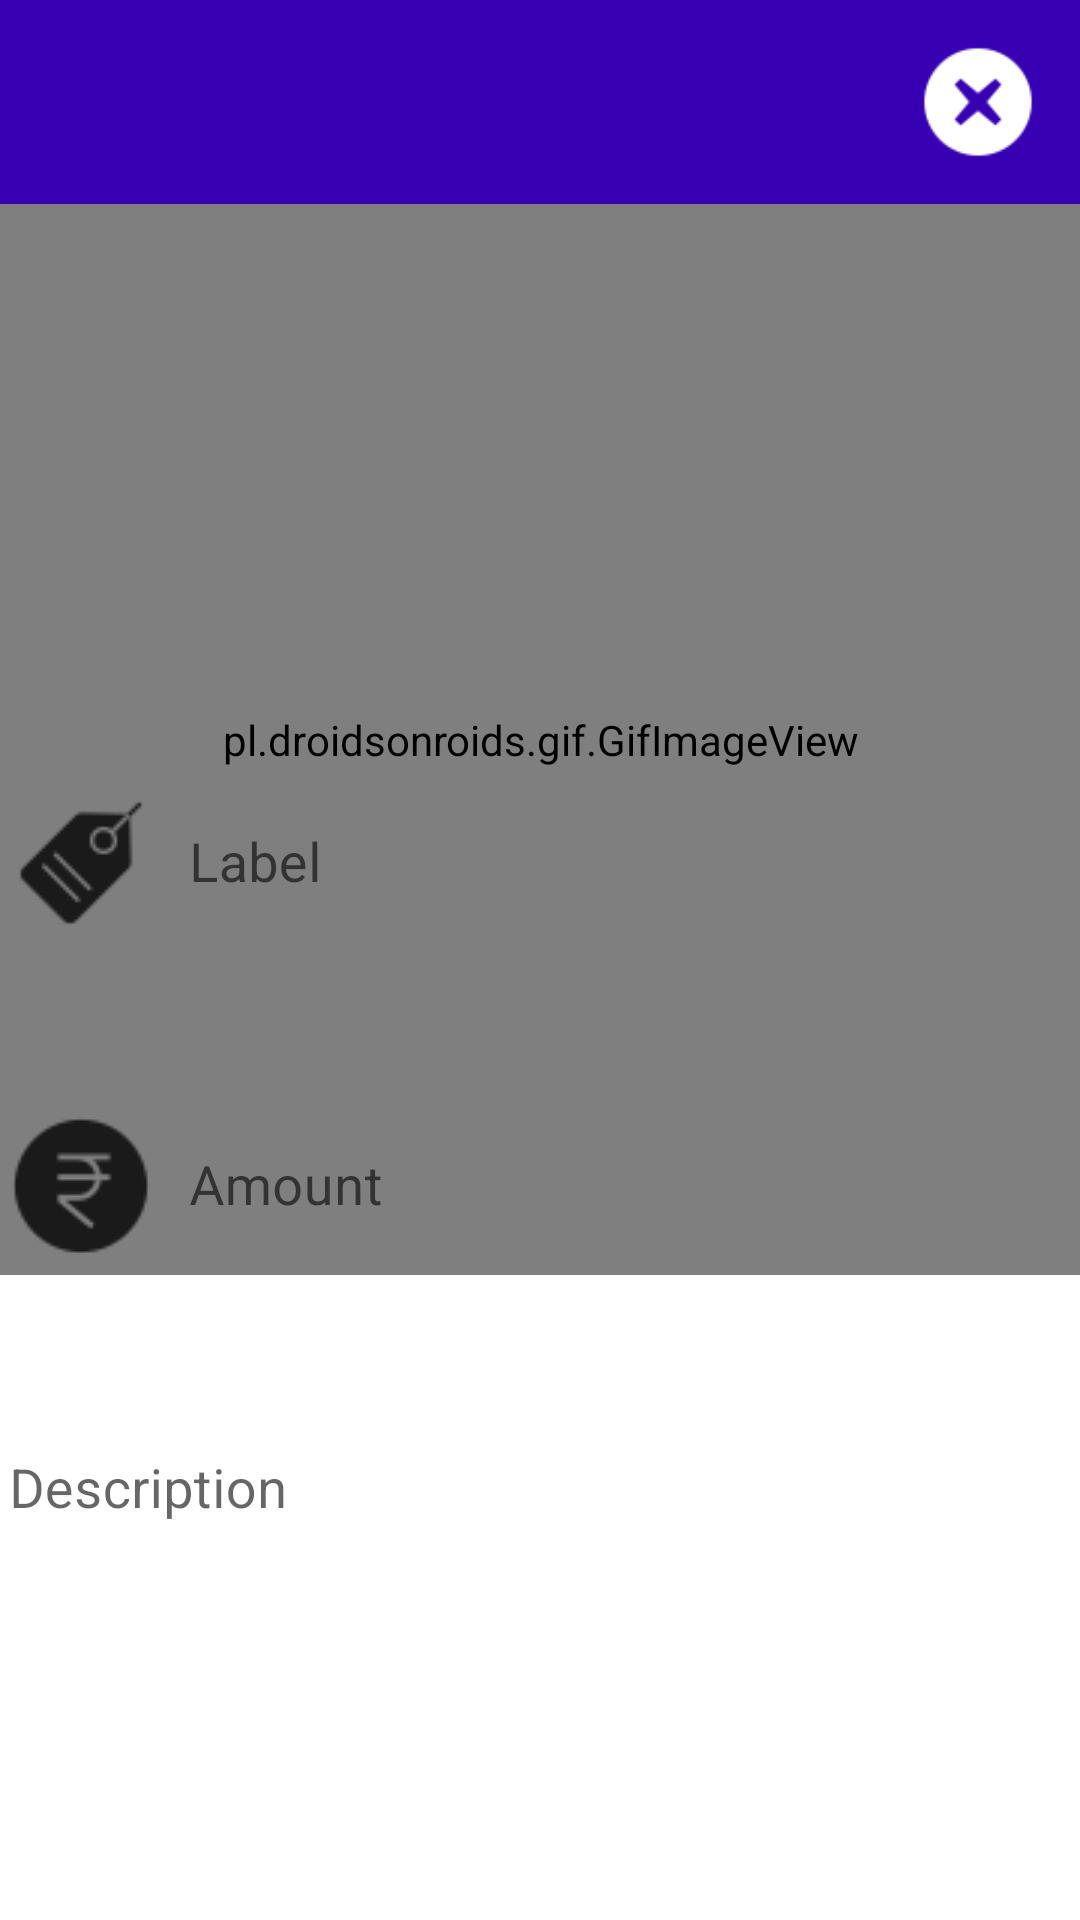

Icon click points for this 1080px×1920px phone screenshot, format (x=x, y=y):
cancel: (x=978, y=102)
